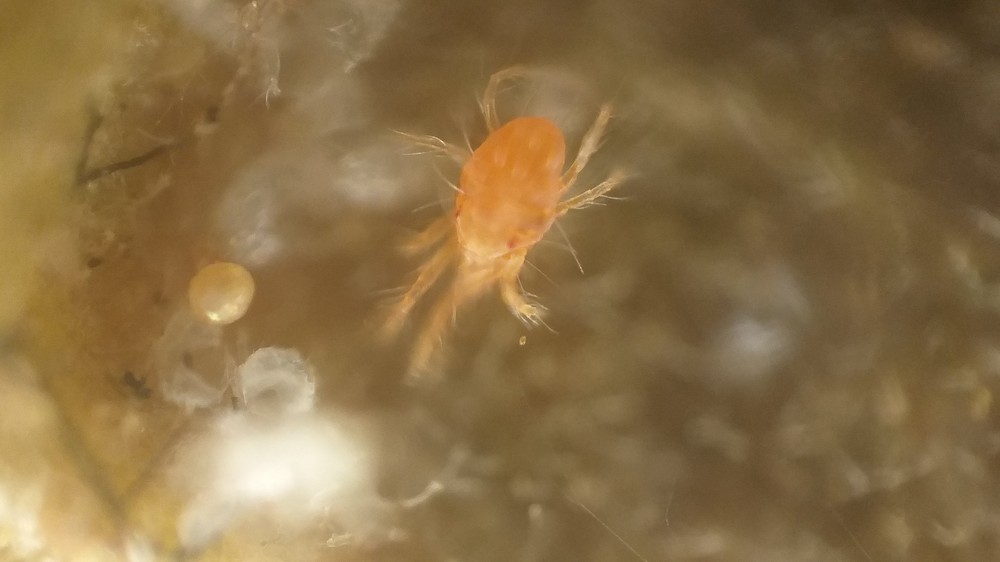Aracnido Rojo: (349, 54, 647, 407)
